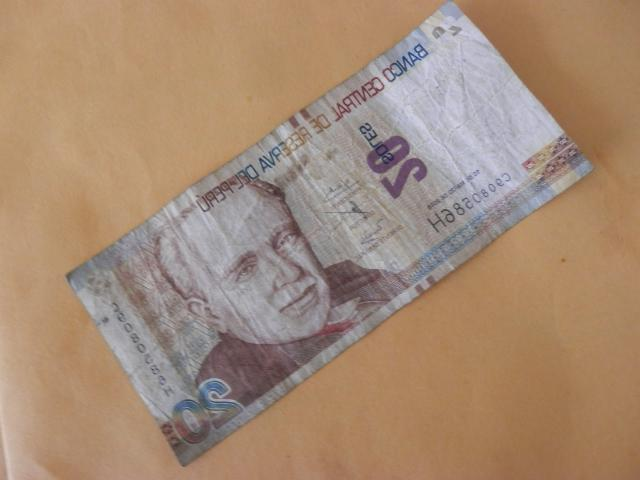B20: (67, 1, 593, 468)
